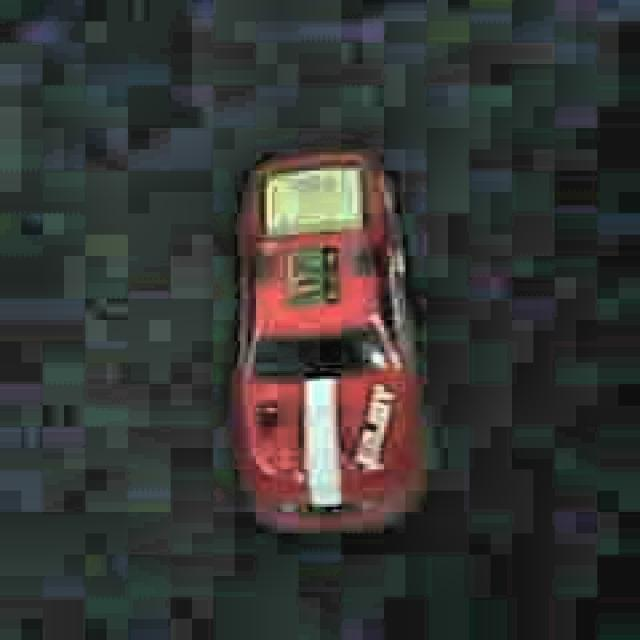car: (217, 136, 434, 542)
